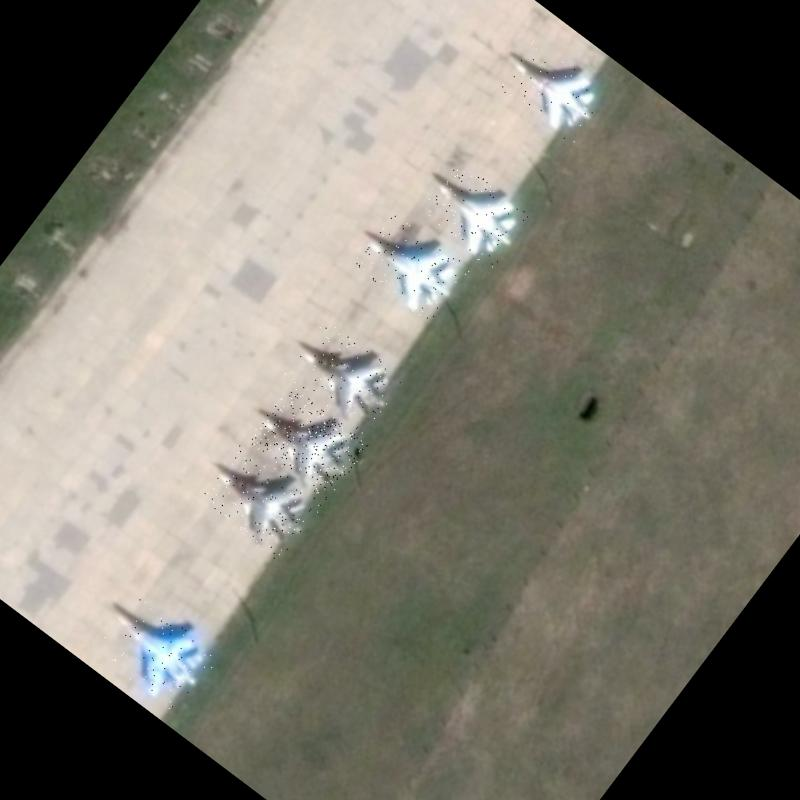A1: (92, 594, 220, 714), (351, 210, 472, 325), (417, 160, 535, 272), (496, 36, 612, 146)
A19: (197, 442, 325, 564), (284, 319, 408, 436), (246, 384, 370, 501)
